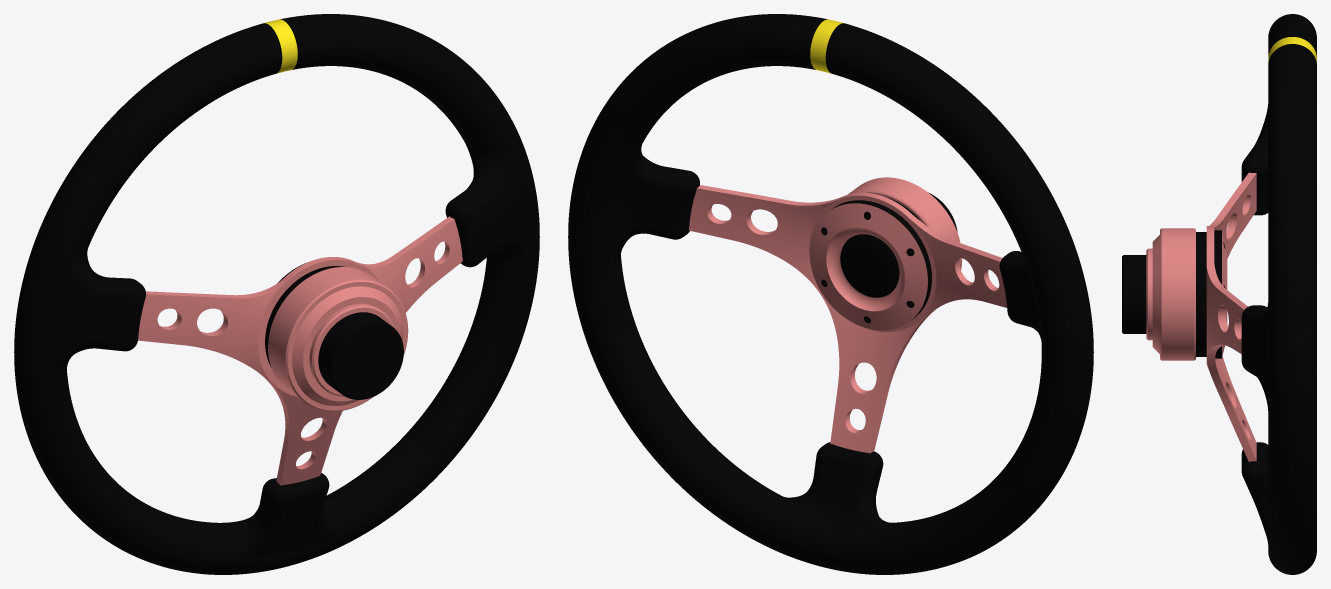
The model's file is NRGWheel.gltf.
3 views of the same model, side by side, from view 1: azimuth 30°, elevation 25°; view 2: azimuth 150°, elevation 25°; view 3: azimuth 270°, elevation 25° (orthographic). The views are drawn at different scales.
Parts seen in each view (by area): view 1: Body10, Body1, Body9; view 2: Body10, Body9, Body2, Body1; view 3: Body10, Body1, Body9, Body2.
Part boxes in pixels (<box>): Body10: <box>14,14,539,574</box>; Body1: <box>265,266,408,411</box>; Body9: <box>138,216,462,485</box>; Body10: <box>568,14,1093,574</box>; Body9: <box>688,185,1007,453</box>; Body2: <box>809,200,931,330</box>; Body1: <box>847,177,962,269</box>; Body10: <box>1241,14,1316,574</box>; Body1: <box>1122,228,1206,360</box>; Body9: <box>1206,172,1256,461</box>; Body2: <box>1214,230,1227,358</box>.
Size of the model in its own units: 368 by 368 by 128.
